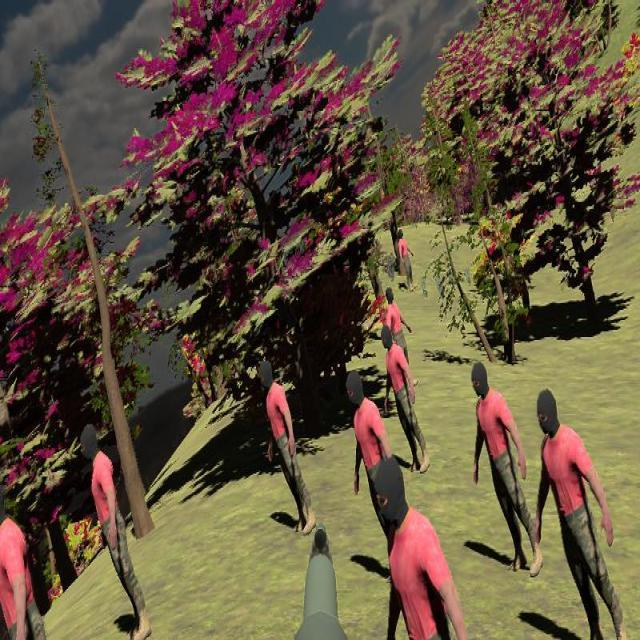Human: (533, 385, 634, 640), (80, 422, 155, 634), (471, 362, 543, 576), (0, 469, 62, 640), (261, 357, 318, 537), (347, 370, 397, 558), (384, 321, 431, 475), (382, 287, 413, 397), (398, 229, 416, 292)
